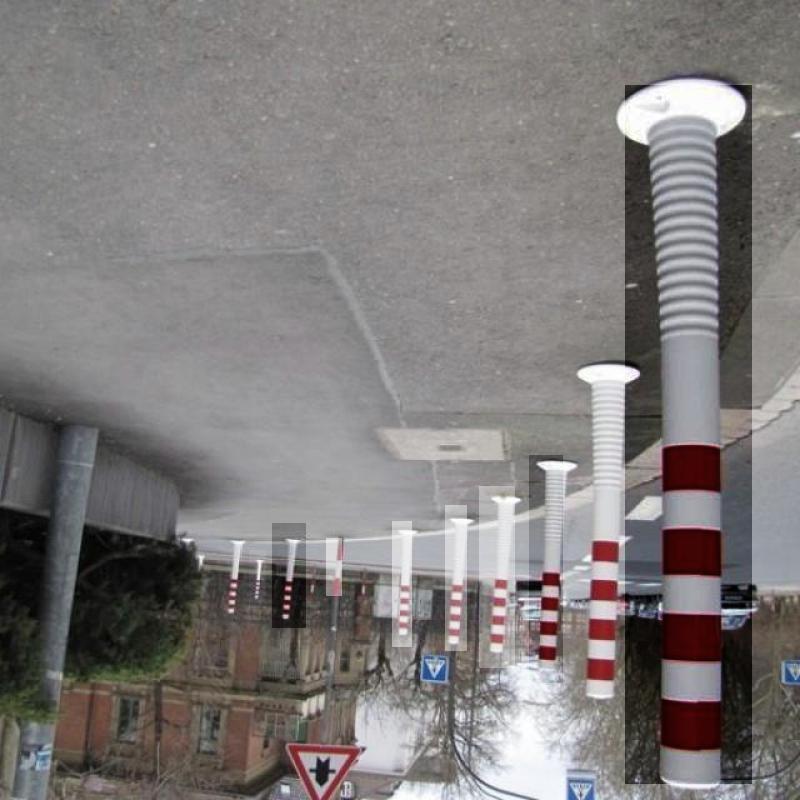pillar: (625, 85, 752, 784), (564, 359, 620, 701), (529, 455, 563, 683), (479, 486, 515, 668), (272, 523, 306, 628), (445, 505, 467, 651), (392, 521, 412, 647), (217, 525, 242, 617), (249, 550, 266, 608), (326, 538, 342, 596)
